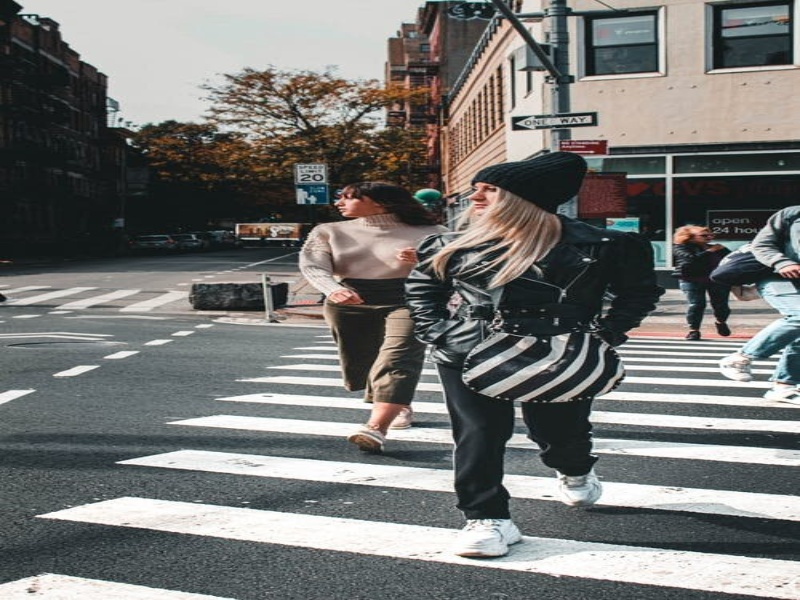zebra cross: (2, 327, 800, 592), (3, 281, 188, 318)
